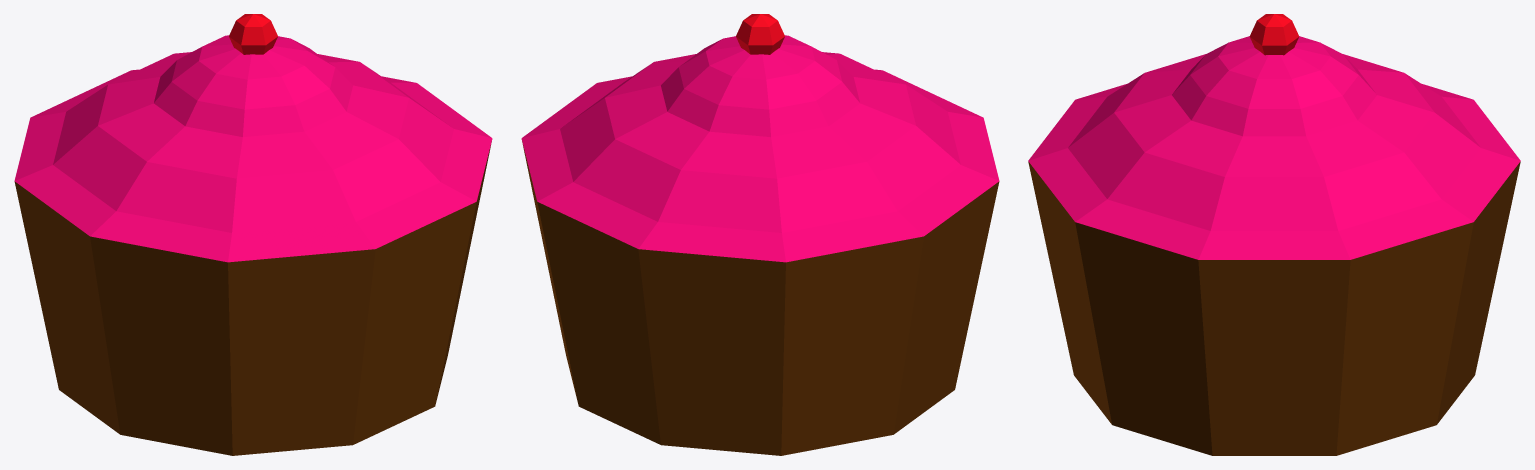
The model's file is Cupcake1.fbx.
3 views of the same model, side by side, from view 1: azimuth 30°, elevation 25°; view 2: azimuth 150°, elevation 25°; view 3: azimuth 270°, elevation 25° (orthographic).
Parts seen in each view (by area): view 1: Cupcake; view 2: Cupcake; view 3: Cupcake.
Part boxes in pixels (<box>): Cupcake: <box>14,14,492,455</box>; Cupcake: <box>521,14,999,455</box>; Cupcake: <box>1028,14,1520,455</box>.
Size of the model in its own units: 17.46 by 14.86 by 18.36.
1 material, 1 textured.
